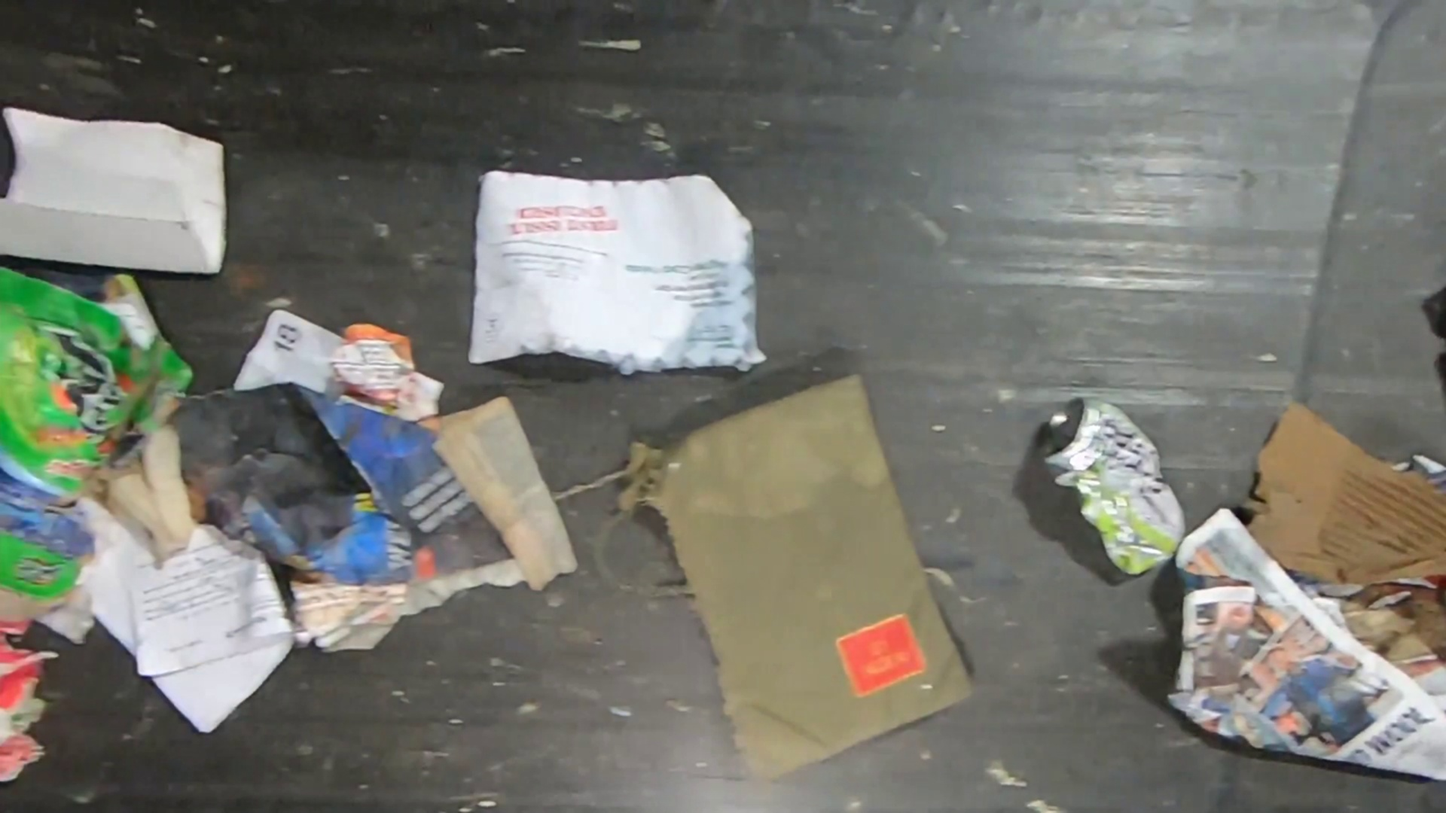cardboard: (0, 263, 200, 639), (1230, 399, 1446, 588)
metal: (1040, 396, 1186, 578)
plastic: (609, 372, 977, 776)
